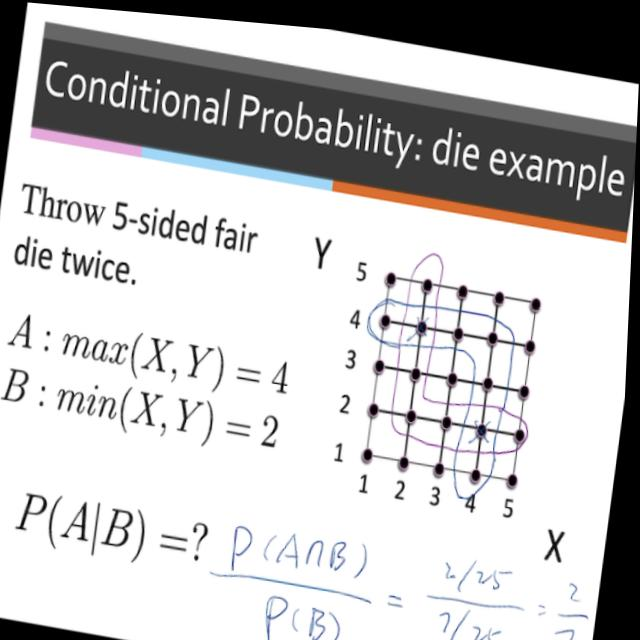equations: (208, 494, 602, 640), (0, 299, 304, 402), (0, 358, 299, 457), (10, 467, 218, 585)
